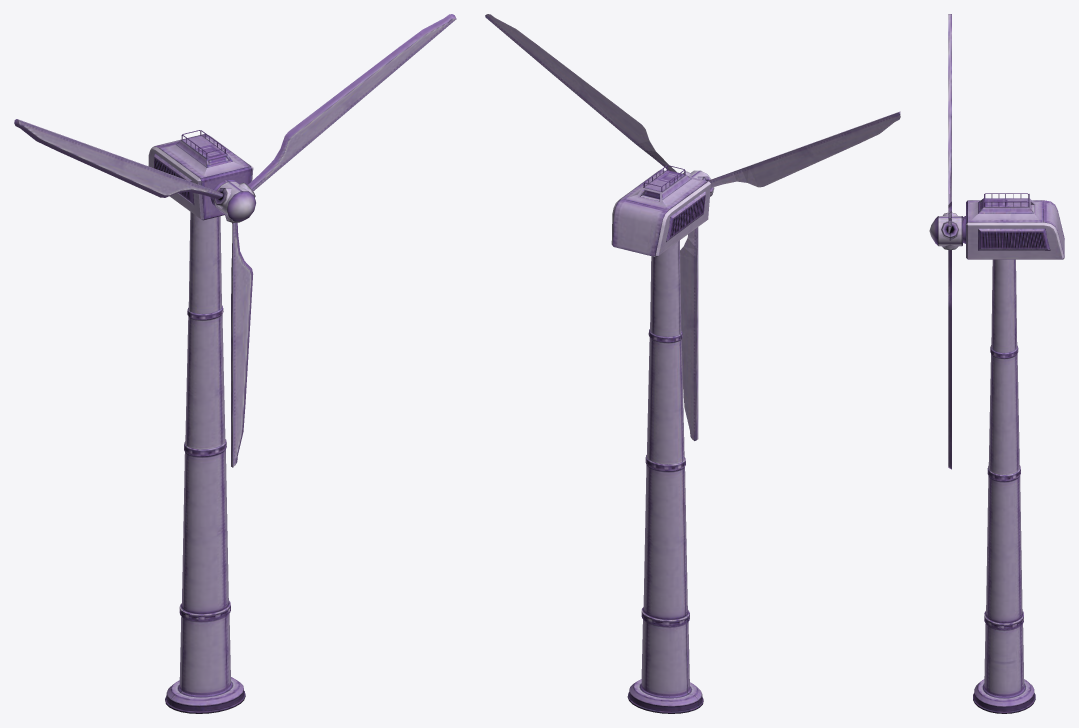
Rendered from windturbine90b.obj.
The picture shows the model from 3 angles, left to right: view 1: azimuth 30°, elevation 25°; view 2: azimuth 150°, elevation 25°; view 3: azimuth 270°, elevation 25°; orthographic projection. The views are drawn at different scales.
Visible parts, largest first — view 1: Turbine_Main, Turbine_Fan; view 2: Turbine_Main, Turbine_Fan; view 3: Turbine_Main, Turbine_Fan.
Boxes of the visible parts, <box> form: Turbine_Main: <box>148,130,253,713</box>; Turbine_Fan: <box>14,14,456,467</box>; Turbine_Main: <box>611,165,710,713</box>; Turbine_Fan: <box>485,14,900,440</box>; Turbine_Main: <box>963,193,1064,713</box>; Turbine_Fan: <box>929,14,962,469</box>.
Bounding box in the file's own units: 160 × 227 × 47.26.
Materials: 2 (2 with a texture image).
